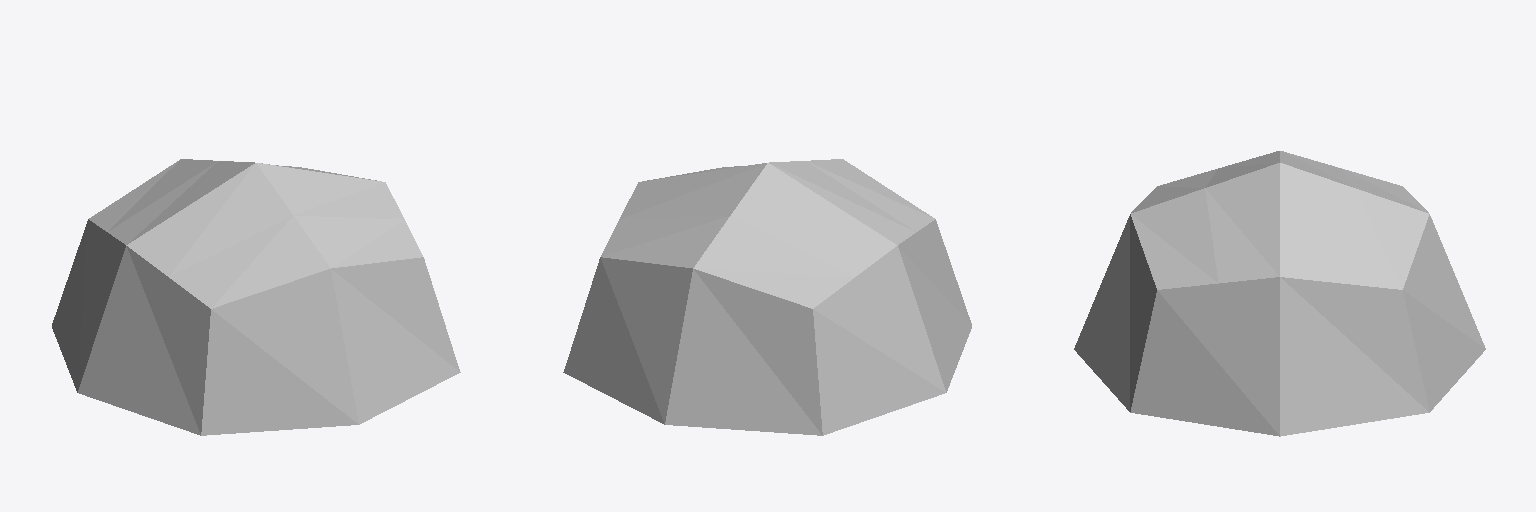
The model's file is triangtest_pie.obj.
3 renders of one model, left to right at view 1: azimuth 30°, elevation 25°; view 2: azimuth 150°, elevation 25°; view 3: azimuth 270°, elevation 25°, orthographic.
Visible parts, largest first — view 1: Cube.001; view 2: Cube.001; view 3: Cube.001.
Boxes of the visible parts, box(x1,y1,x2,y2) form: Cube.001: box(52, 159, 460, 435); Cube.001: box(563, 159, 971, 435); Cube.001: box(1074, 151, 1485, 436).
Bounding box in the file's own units: 1.68 × 0.8395 × 1.68.